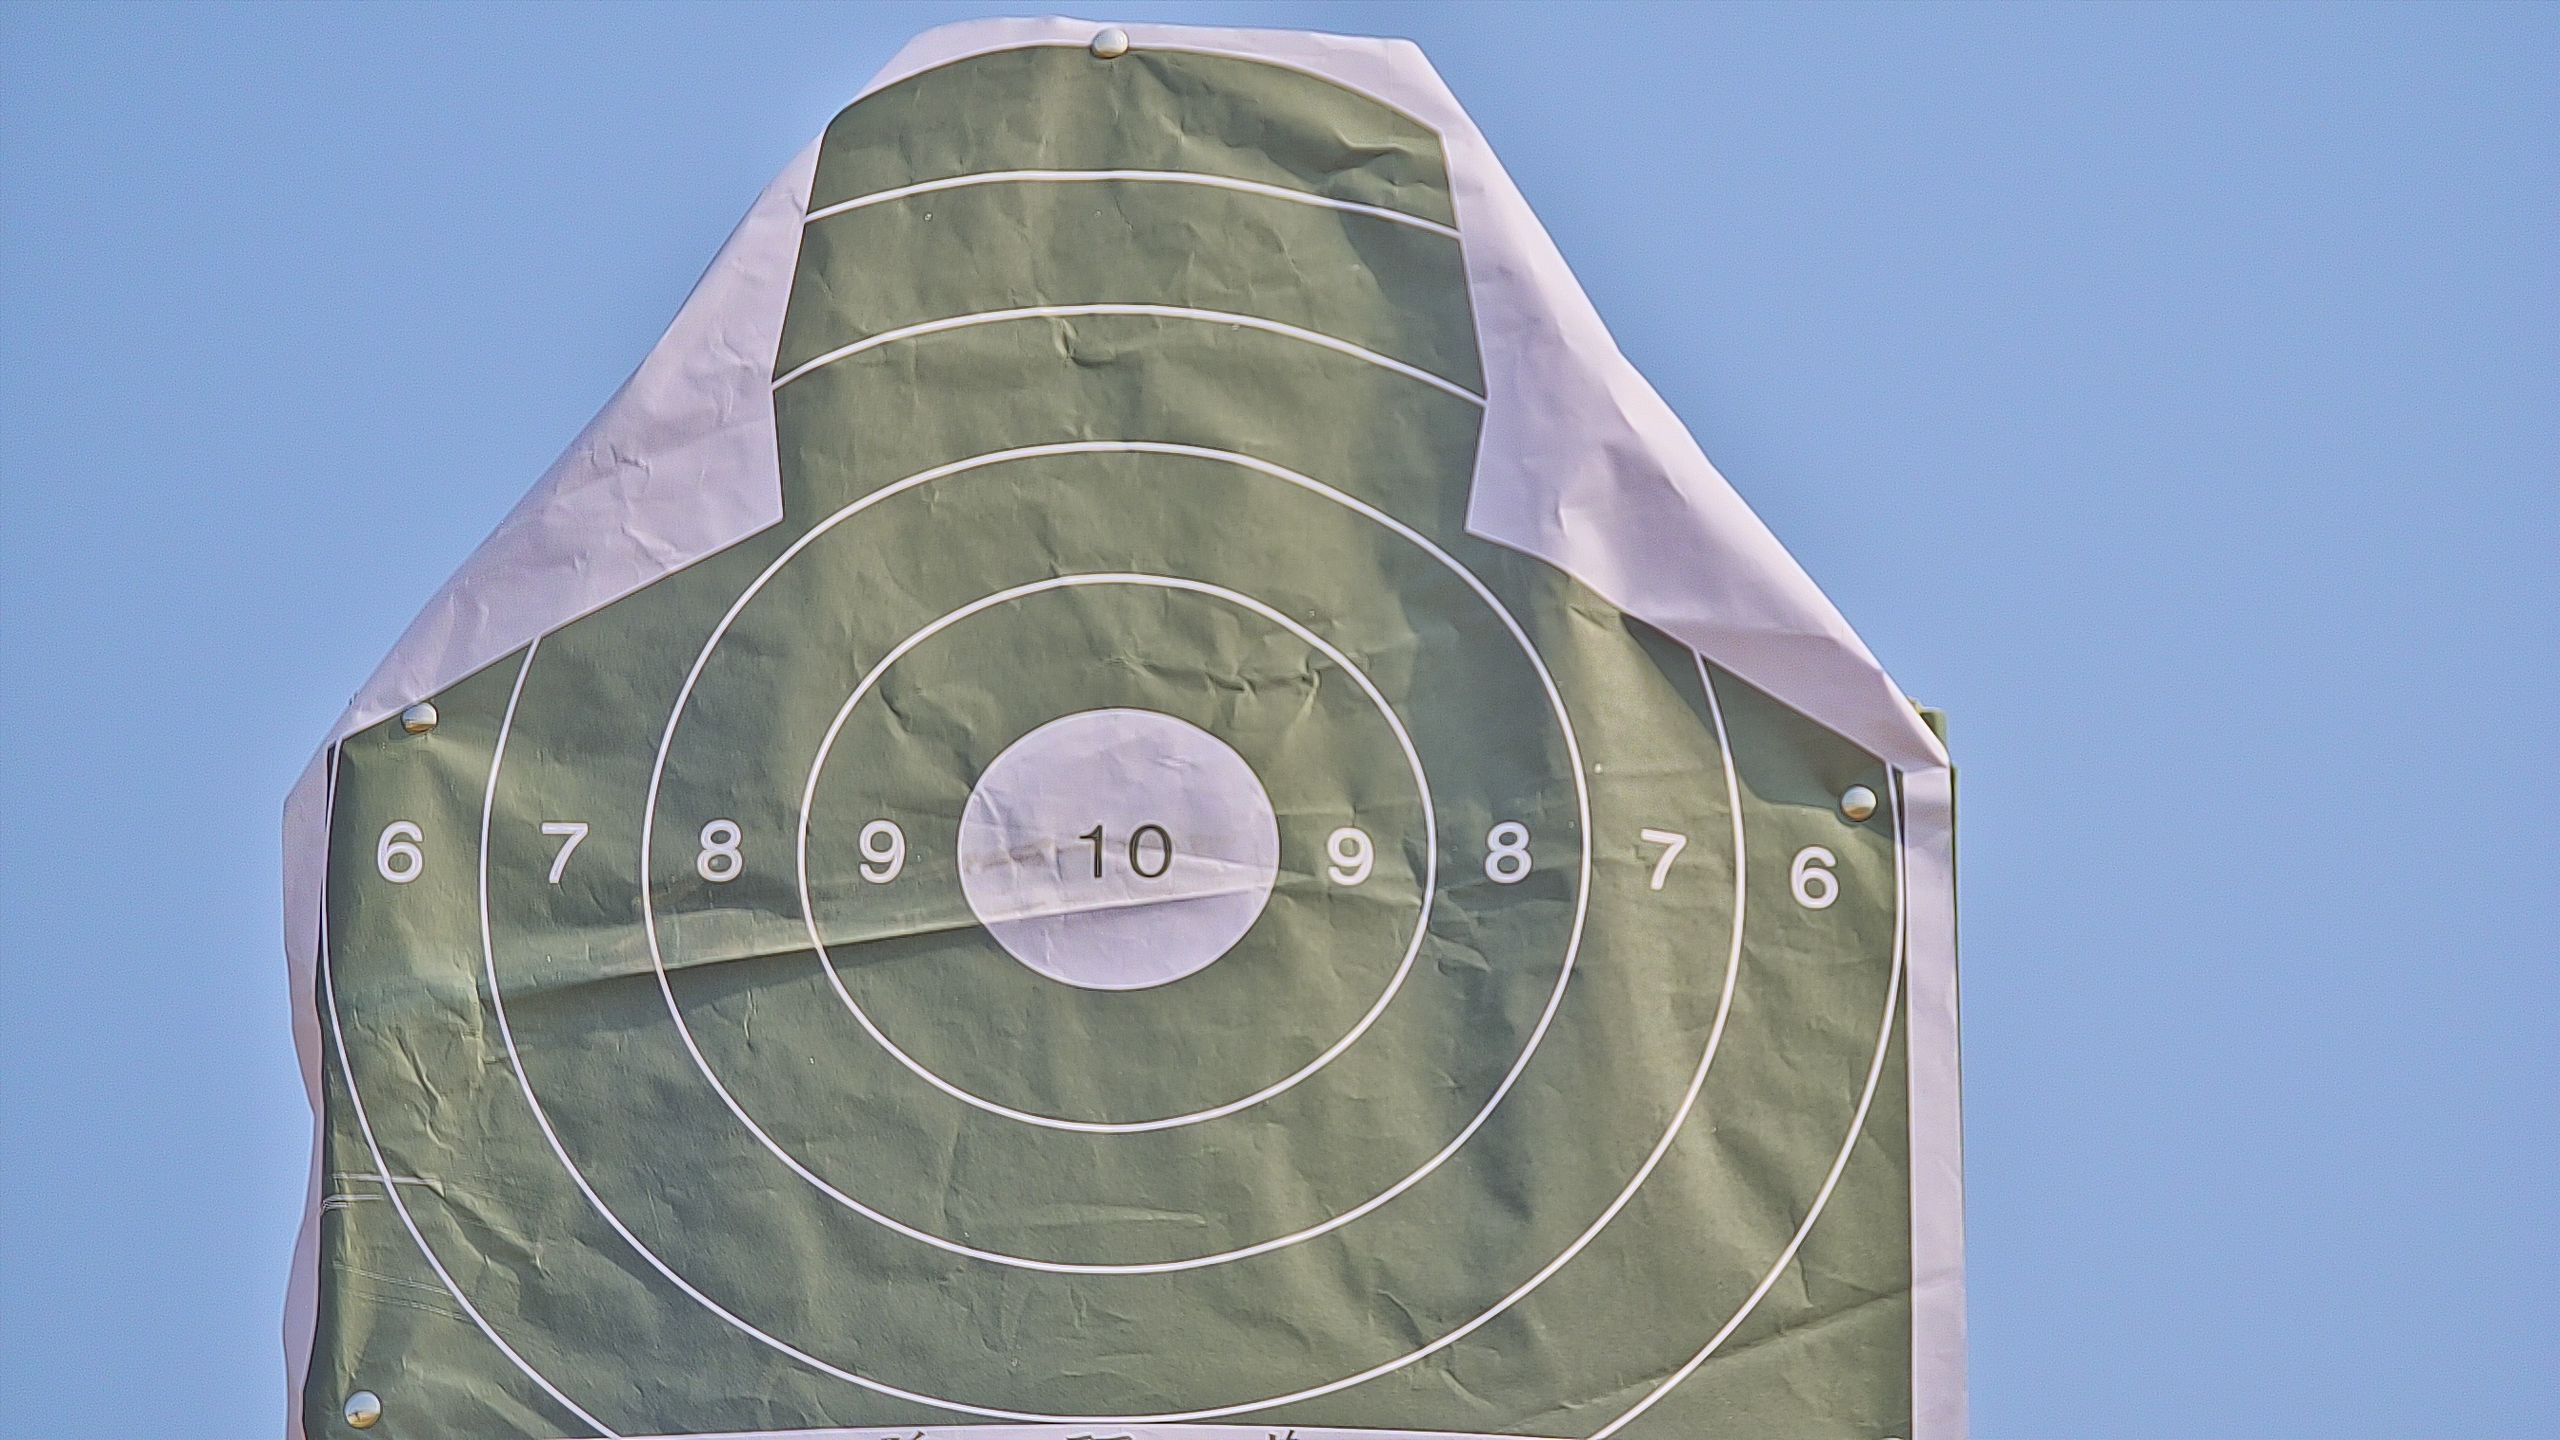kernel: (1111, 855, 1116, 862)
target: (311, 40, 1916, 1440)
ten: (956, 705, 1296, 997)
